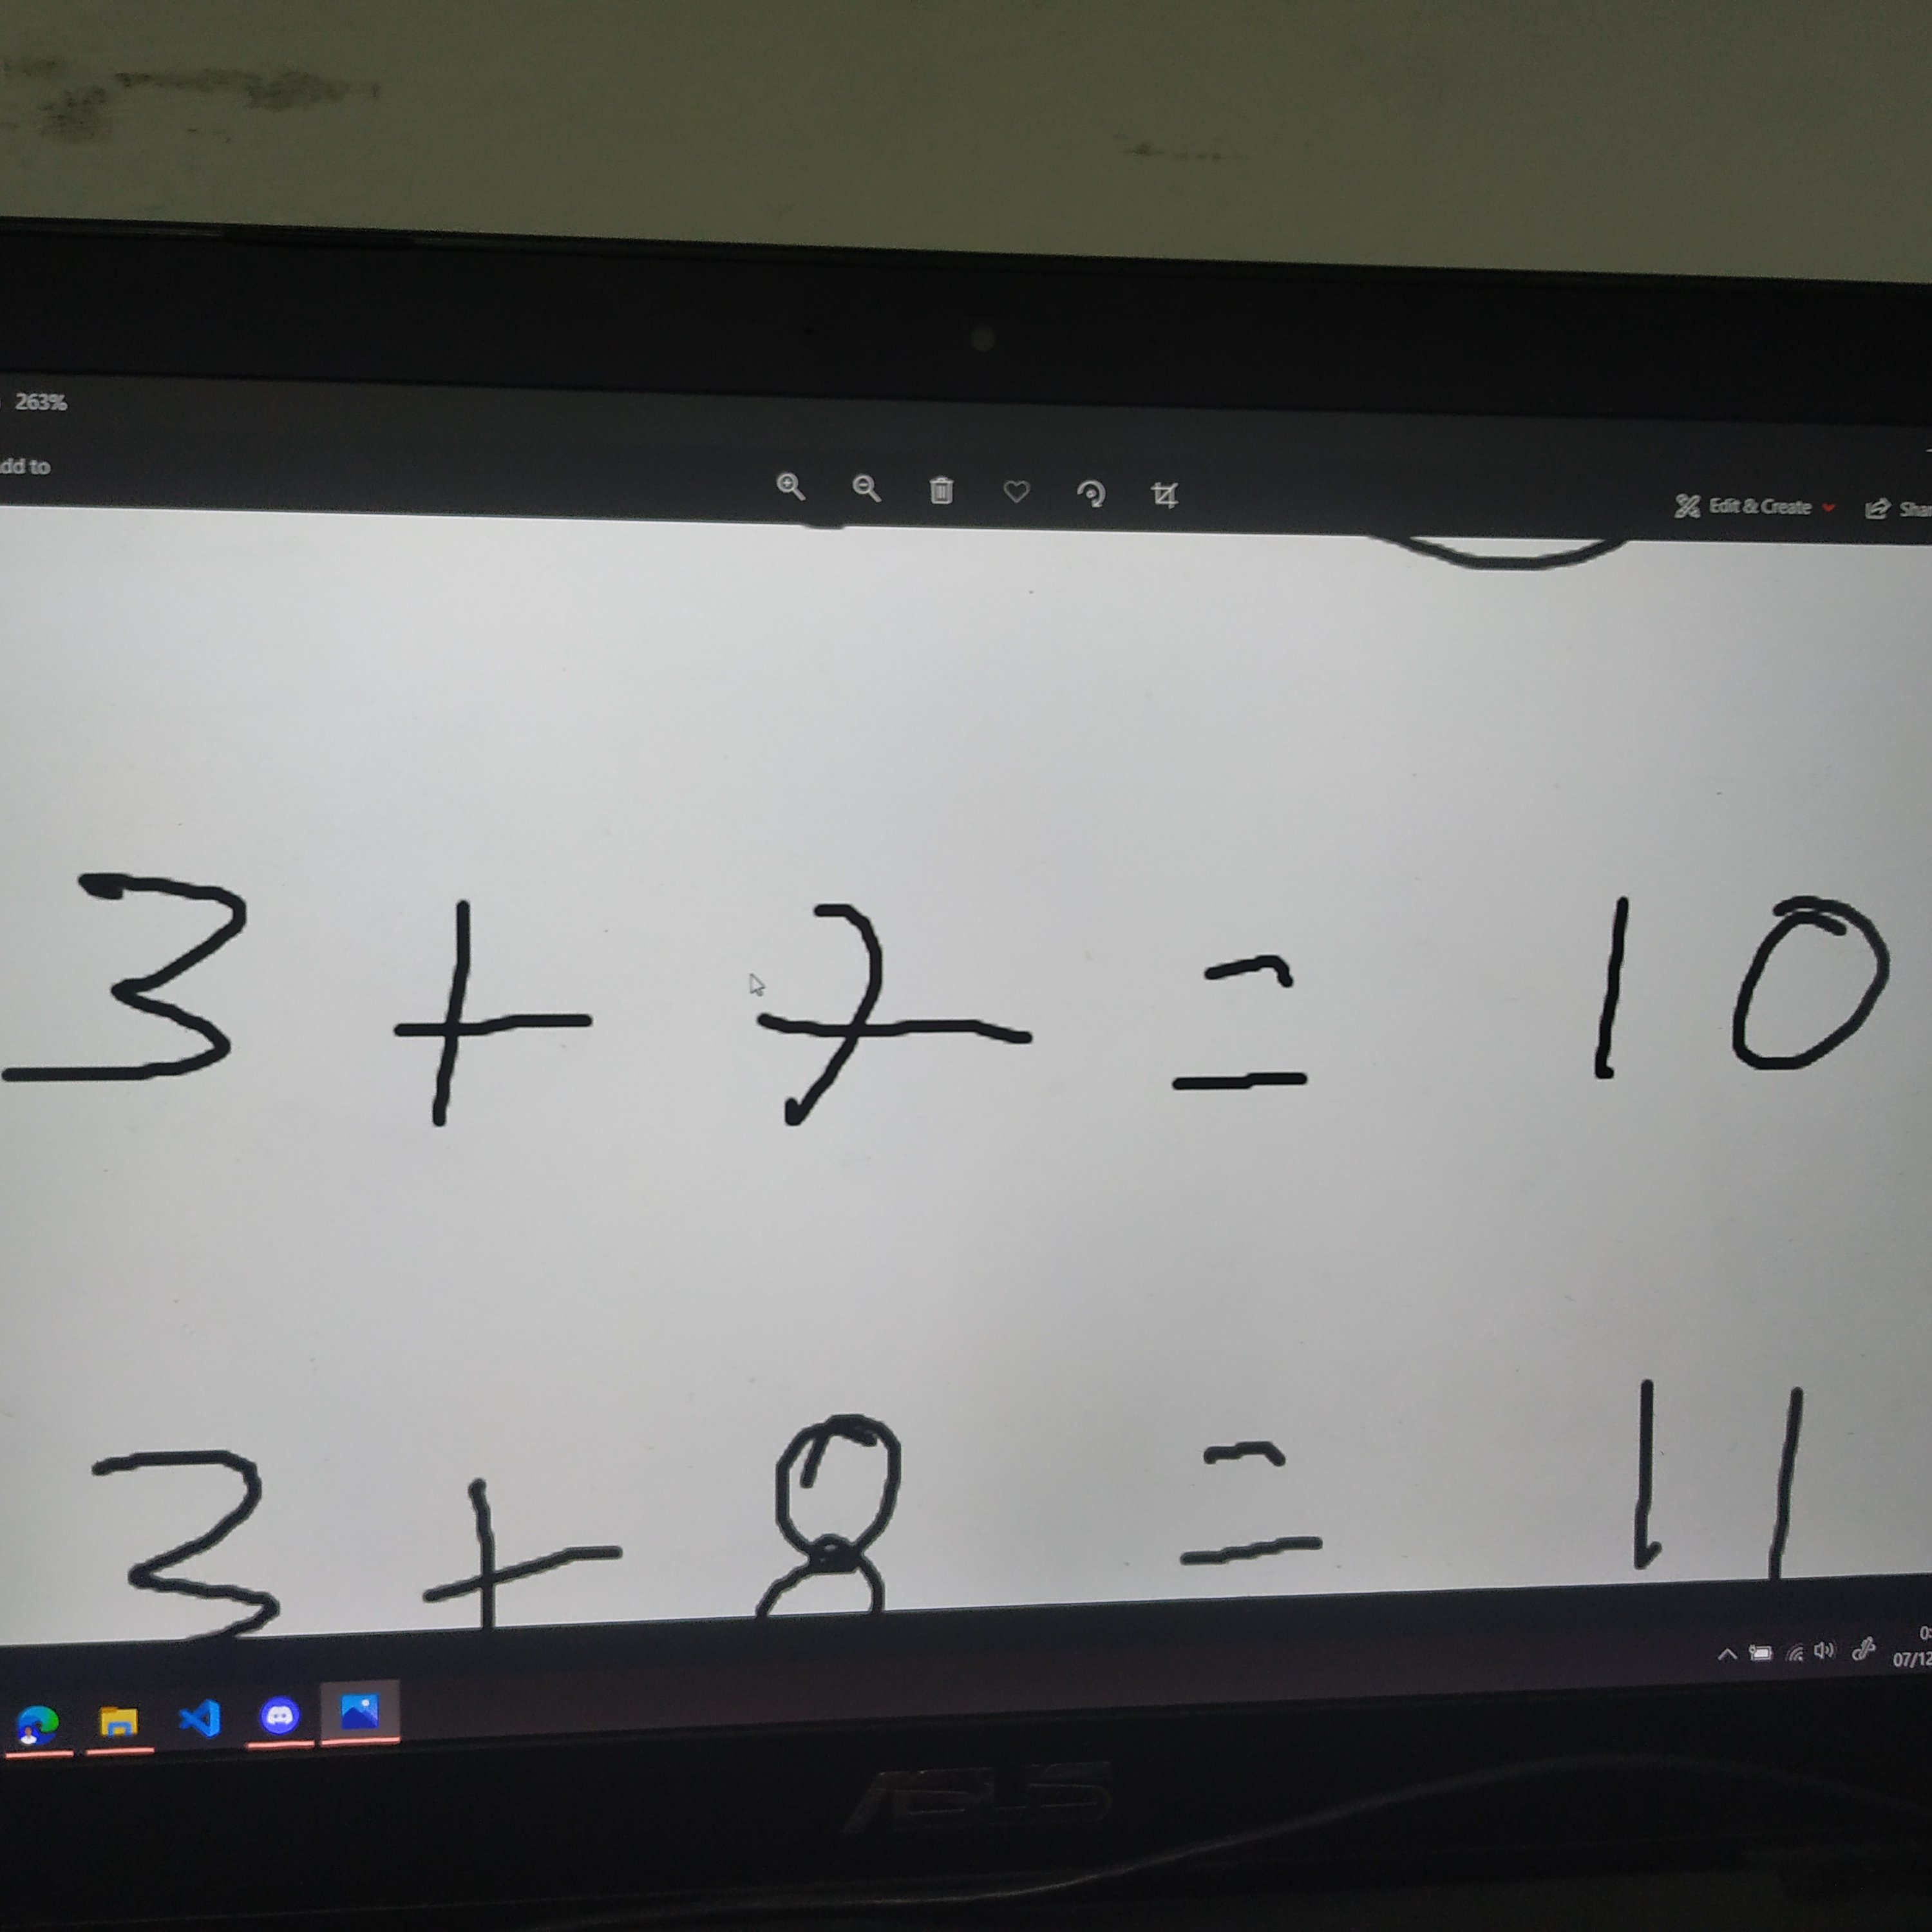equal: (1145, 943, 1361, 1117)
num0: (1729, 889, 1899, 1090)
num1: (1557, 885, 1658, 1105)
num3: (5, 853, 289, 1111)
num7: (738, 889, 1023, 1141)
sum: (377, 887, 611, 1132)
